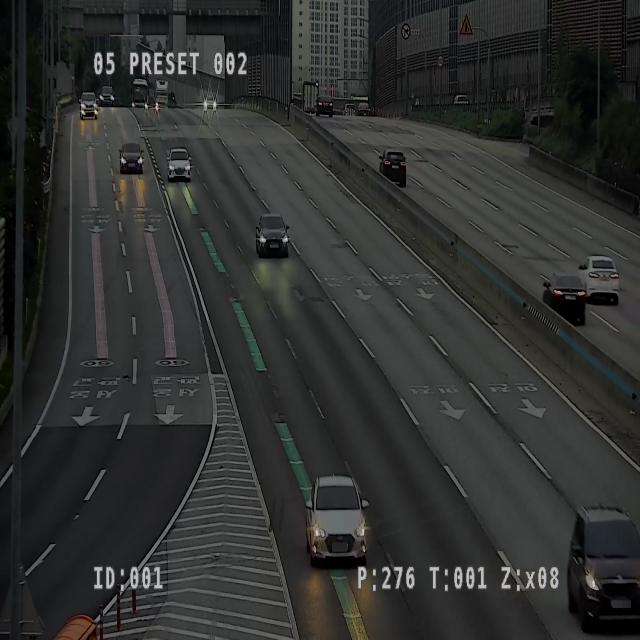Car: (566, 507, 640, 637), (305, 475, 370, 569), (577, 236, 621, 312), (540, 275, 586, 327), (256, 214, 290, 257), (379, 149, 407, 189), (166, 147, 192, 182), (78, 83, 96, 129), (119, 142, 144, 174), (98, 79, 116, 115), (315, 93, 335, 122)
Truck: (296, 77, 322, 122), (131, 78, 149, 110), (154, 80, 169, 110)
